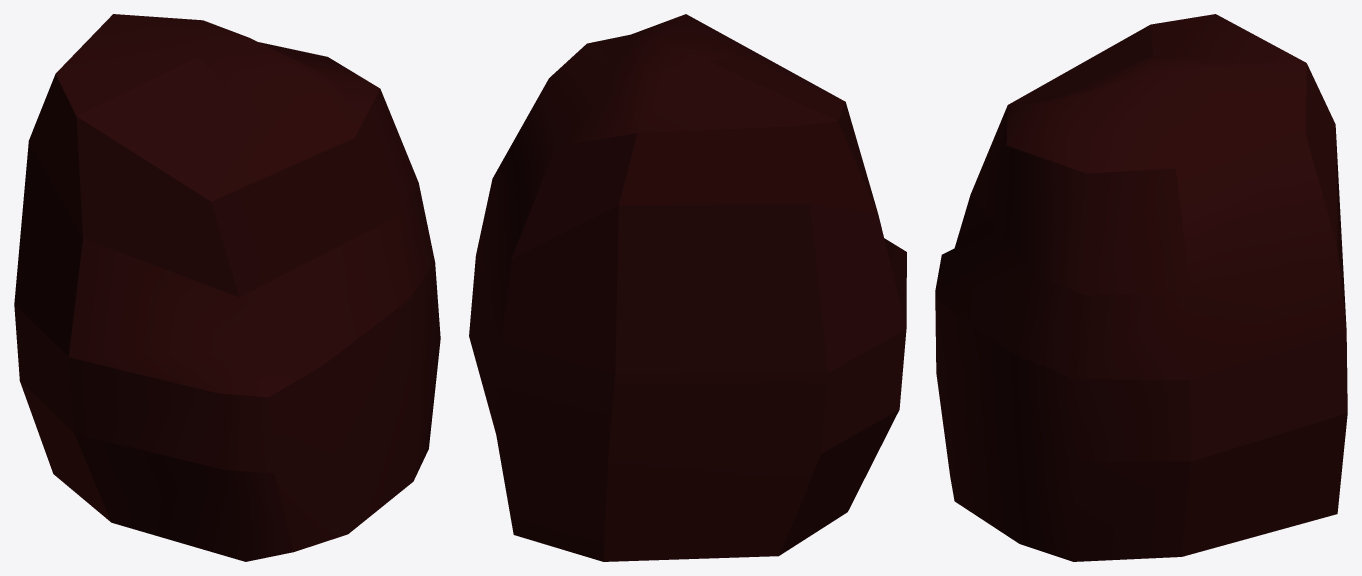
File: BlockingMoundLarge.fbx
3 views of the same model, side by side, from view 1: azimuth 30°, elevation 25°; view 2: azimuth 150°, elevation 25°; view 3: azimuth 270°, elevation 25° (orthographic). The views are drawn at different scales.
Visible parts, largest first — view 1: BlockingMoundLarge; view 2: BlockingMoundLarge; view 3: BlockingMoundLarge.
Part boxes in pixels (bbox=[...]): BlockingMoundLarge: bbox=[14, 14, 440, 561]; BlockingMoundLarge: bbox=[469, 14, 906, 561]; BlockingMoundLarge: bbox=[935, 14, 1347, 561].
Bounding box in the file's own units: 1594 × 1532 × 1768.
